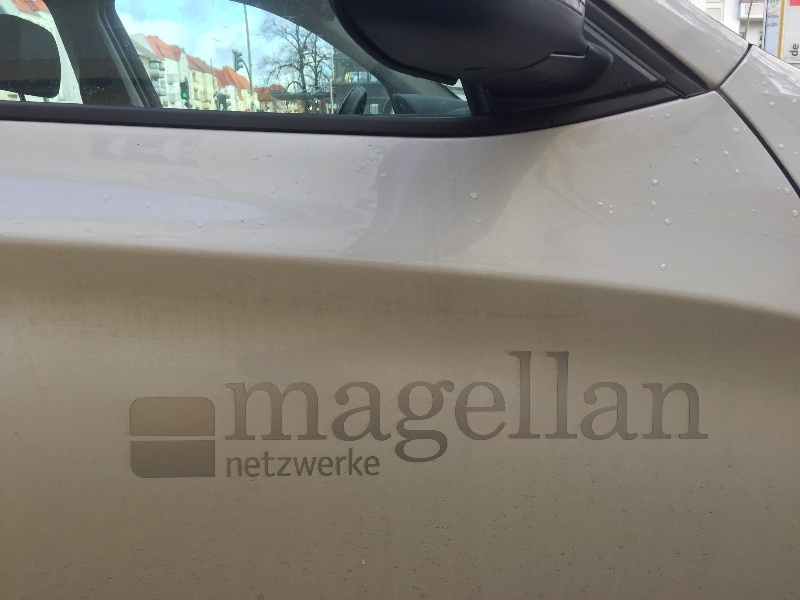text: (225, 346, 240, 471), (241, 346, 256, 471), (257, 346, 272, 471), (273, 346, 288, 471), (289, 346, 304, 471), (305, 346, 320, 471), (321, 346, 336, 471), (337, 346, 352, 471), (353, 346, 368, 471), (369, 346, 384, 471), (385, 346, 400, 471), (401, 346, 416, 471), (417, 346, 432, 471), (433, 346, 448, 471), (449, 346, 464, 471), (465, 346, 480, 471), (481, 346, 496, 471), (497, 346, 512, 471), (513, 346, 528, 471), (529, 346, 544, 471), (545, 346, 560, 471), (561, 346, 576, 471), (577, 346, 592, 471), (593, 346, 608, 471), (609, 346, 624, 471), (625, 346, 640, 471), (641, 346, 656, 471), (657, 346, 672, 471), (673, 346, 688, 471), (689, 346, 704, 471), (705, 346, 713, 471), (225, 448, 240, 481), (241, 448, 256, 481), (257, 448, 272, 481), (273, 448, 288, 481), (289, 448, 304, 481), (305, 448, 320, 481), (321, 448, 336, 481), (337, 448, 352, 481), (353, 448, 368, 481), (369, 448, 381, 481), (790, 41, 800, 57)
